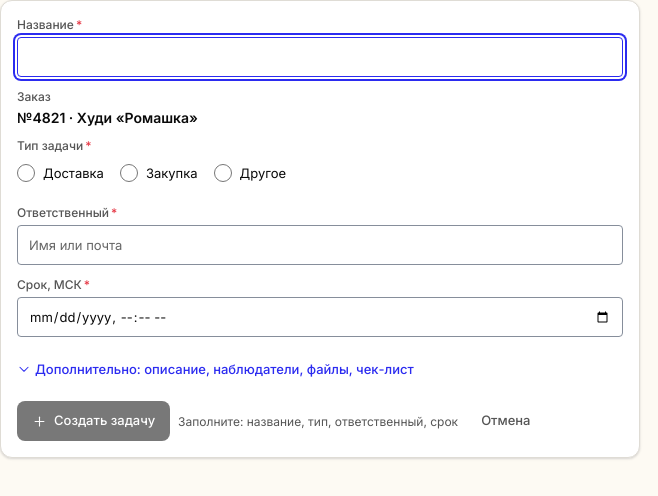
BizTaskCreateForm › «Доставка» — подсказки «Откуда, Куда…»
Expected: the text "Откуда" is not shown
Click the radio button labelled "Доставка". click: point(26, 173)
box: [17,164,35,182]
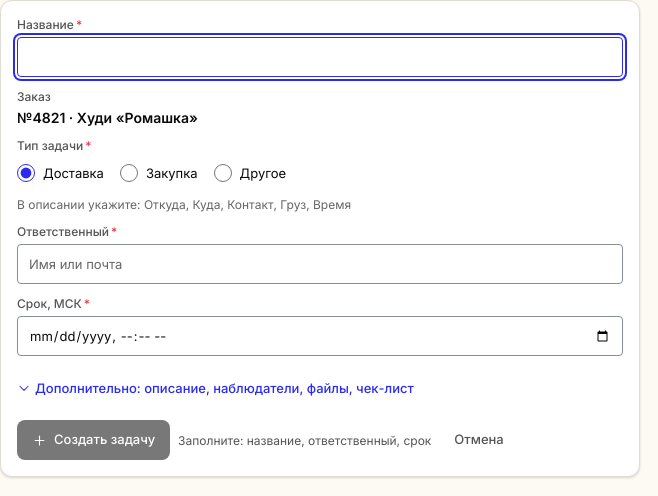
Expected: the text "В описании укажите: Откуда, Куда, Контакт, Груз, Время" is shown, [17,197,351,212]
Click the radio button labelled "Закупка". click: point(129, 173)
box: [120,164,138,182]
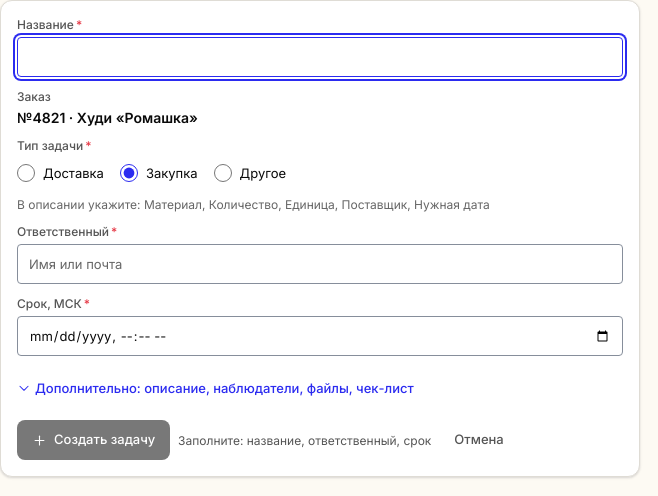
Expected: the text "В описании укажите: Материал, Количество, Единица, Поставщик, Нужная дата" is shown, [17,197,490,212]
Click the radio button labelled "Другое". click: point(223, 173)
box: [214,164,232,182]
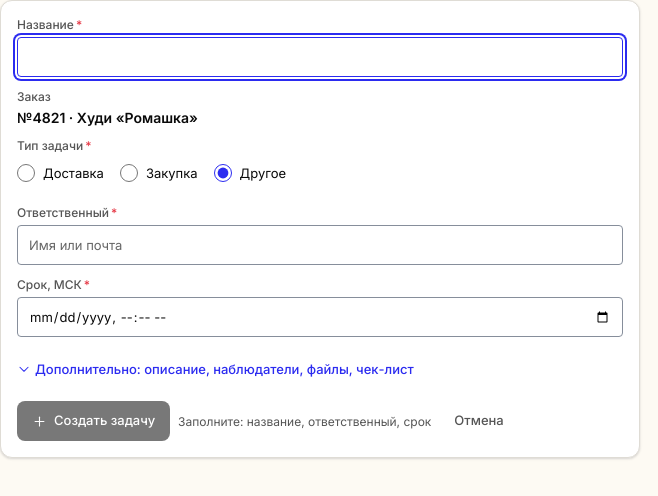
Expected: the text "В описании укажите" is gone
